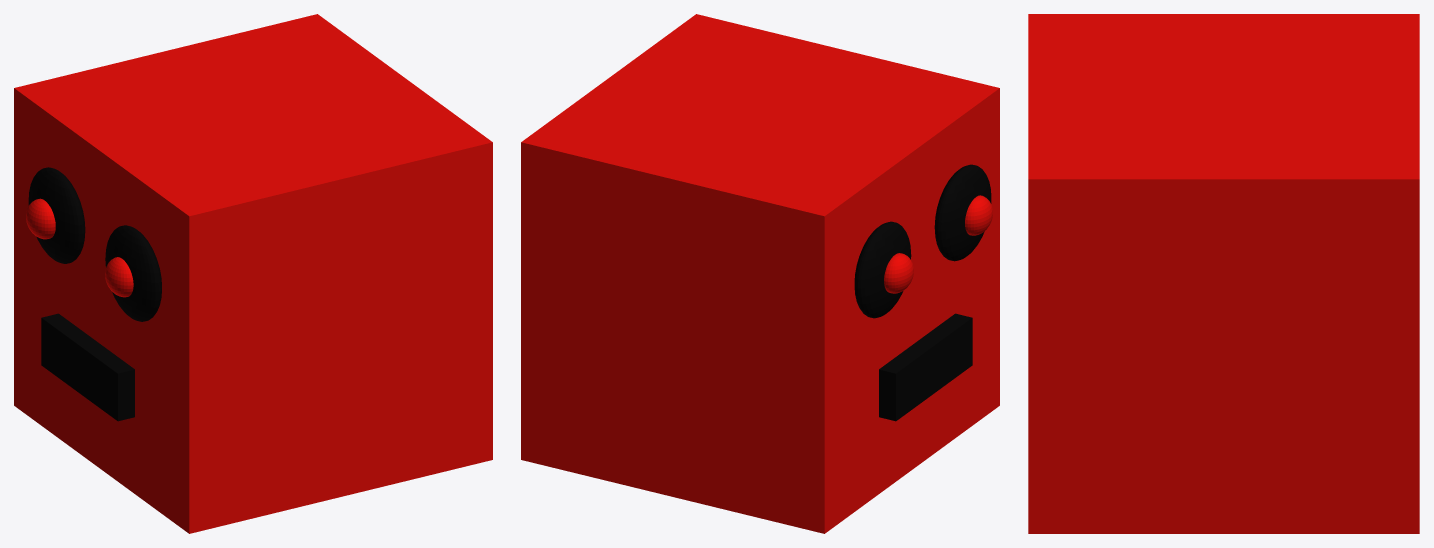
File: Enemigo 1.fbx
The picture shows the model from 3 angles, left to right: view 1: azimuth 30°, elevation 25°; view 2: azimuth 150°, elevation 25°; view 3: azimuth 270°, elevation 25°; orthographic projection. The views are drawn at different scales.
Visible parts, largest first — view 1: Cube, Cube.001, Sphere, Sphere.001, Sphere.002, Sphere.003; view 2: Cube, Cube.001, Sphere.001, Sphere, Sphere.002, Sphere.003; view 3: Cube.
Boxes of the visible parts, x1,y1,x2,y2 form: Cube: (14, 14, 492, 533); Cube.001: (41, 313, 134, 421); Sphere: (28, 167, 85, 263); Sphere.001: (105, 225, 161, 321); Sphere.002: (26, 198, 55, 239); Sphere.003: (105, 257, 133, 297); Cube: (521, 14, 999, 533); Cube.001: (879, 313, 972, 421); Sphere.001: (934, 164, 991, 261); Sphere: (854, 221, 911, 318); Sphere.002: (884, 253, 913, 293); Sphere.003: (965, 195, 992, 235); Cube: (1028, 14, 1419, 533).
Bounding box in the file's own units: 223 × 200 × 200.
